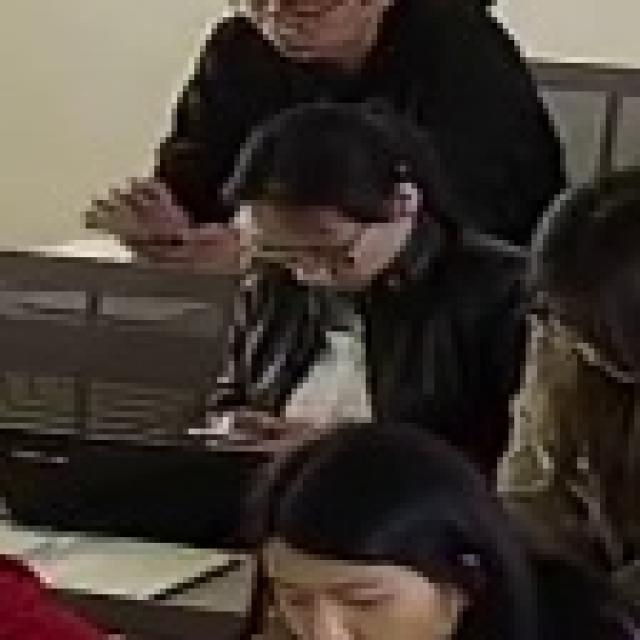phone: (75, 0, 553, 264), (194, 107, 536, 444)
